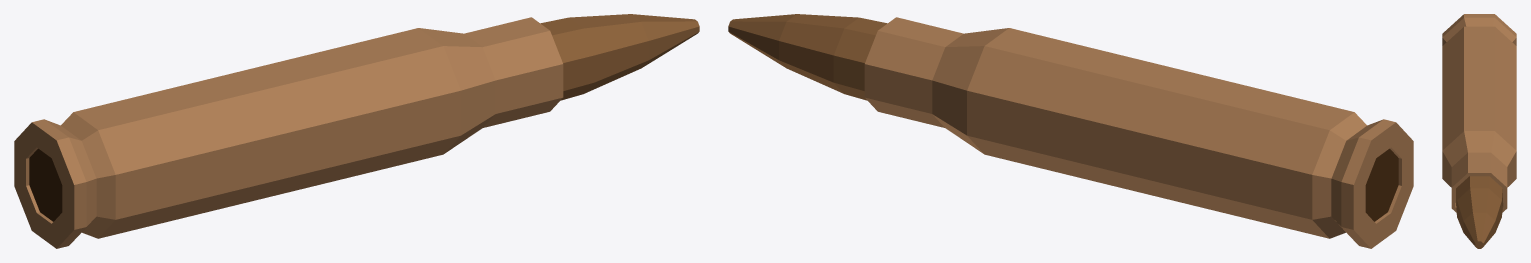
Rendered from Rifle-Bullet.fbx.
3 views of the same model, side by side, from view 1: azimuth 30°, elevation 25°; view 2: azimuth 150°, elevation 25°; view 3: azimuth 270°, elevation 25° (orthographic). The views are drawn at different scales.
Visible parts, largest first — view 1: BulletLite_02_2, BulletLite_02; view 2: BulletLite_02_2, BulletLite_02; view 3: BulletLite_02_2, BulletLite_02.
Boxes of the visible parts, left/top/right/bottom form: BulletLite_02_2: left=14, top=17, right=563, bottom=248; BulletLite_02: left=540, top=14, right=699, bottom=100; BulletLite_02_2: left=864, top=17, right=1413, bottom=248; BulletLite_02: left=728, top=14, right=887, bottom=100; BulletLite_02_2: left=1442, top=14, right=1516, bottom=212; BulletLite_02: left=1456, top=176, right=1502, bottom=248.
Bounding box in the file's own units: 6.25 × 0.9949 × 0.9949.
Materials: 1 (1 with a texture image).
